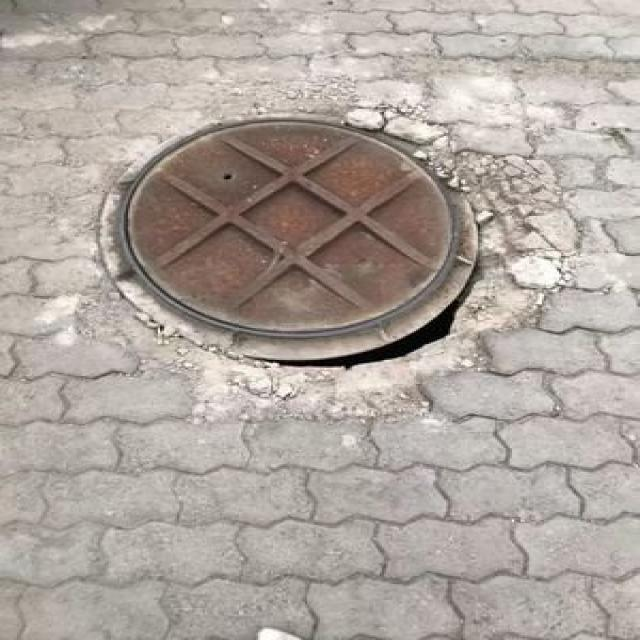manhole: (95, 116, 480, 367)
